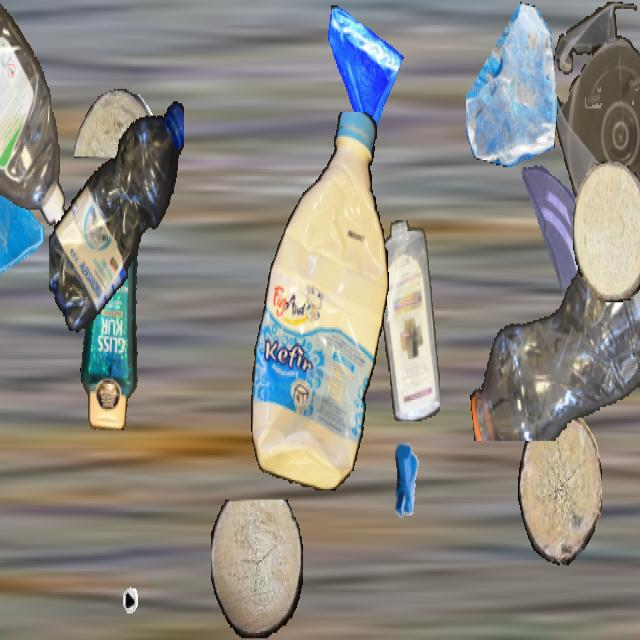glass: (466, 2, 558, 165), (517, 158, 601, 308), (322, 2, 404, 148), (0, 167, 47, 285)
metal: (376, 428, 438, 538), (85, 516, 145, 622)
plastic: (247, 112, 389, 489), (465, 192, 640, 441), (49, 89, 183, 338), (552, 2, 640, 236), (76, 176, 148, 428), (0, 2, 67, 233), (379, 220, 439, 420)
wood: (518, 412, 602, 566), (211, 500, 303, 638), (573, 162, 640, 300), (74, 89, 158, 156)
